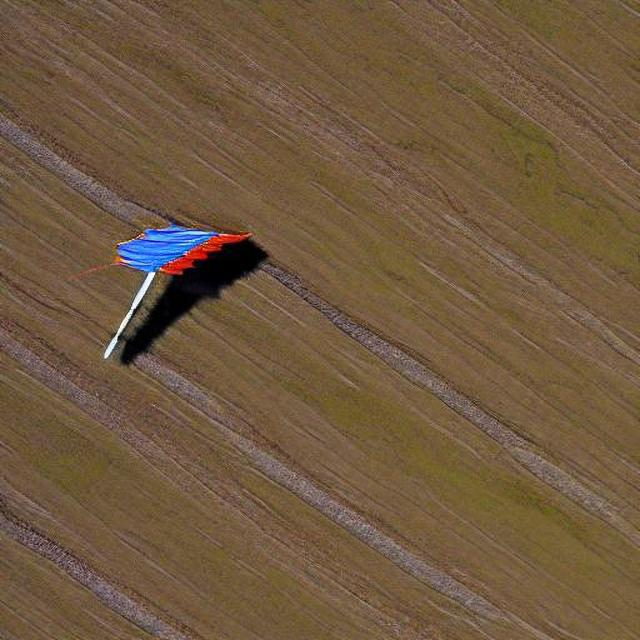floating object: (100, 215, 264, 362)
